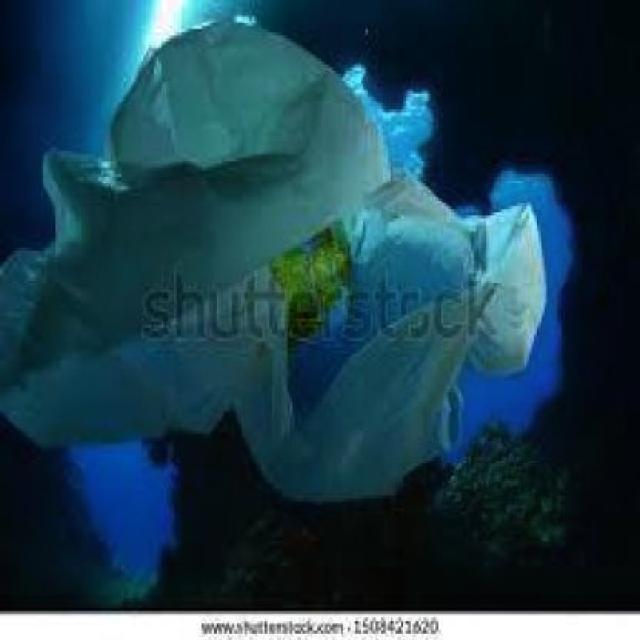pbag: (2, 19, 552, 499)
